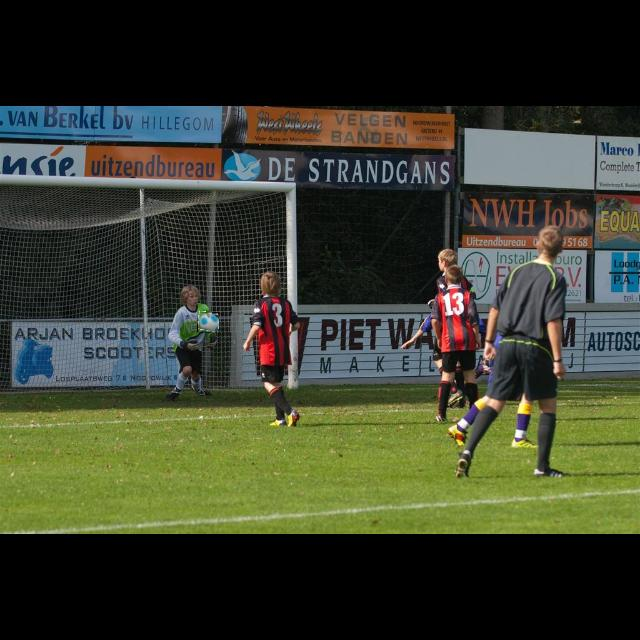Football: (197, 312, 219, 332)
